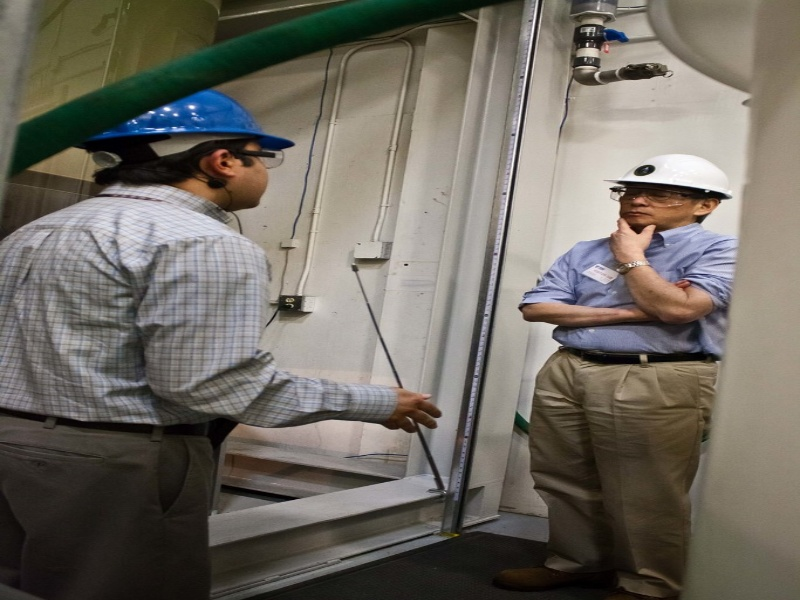Baret: (74, 86, 291, 148), (613, 154, 735, 196)
Gozluk: (611, 184, 730, 203)
